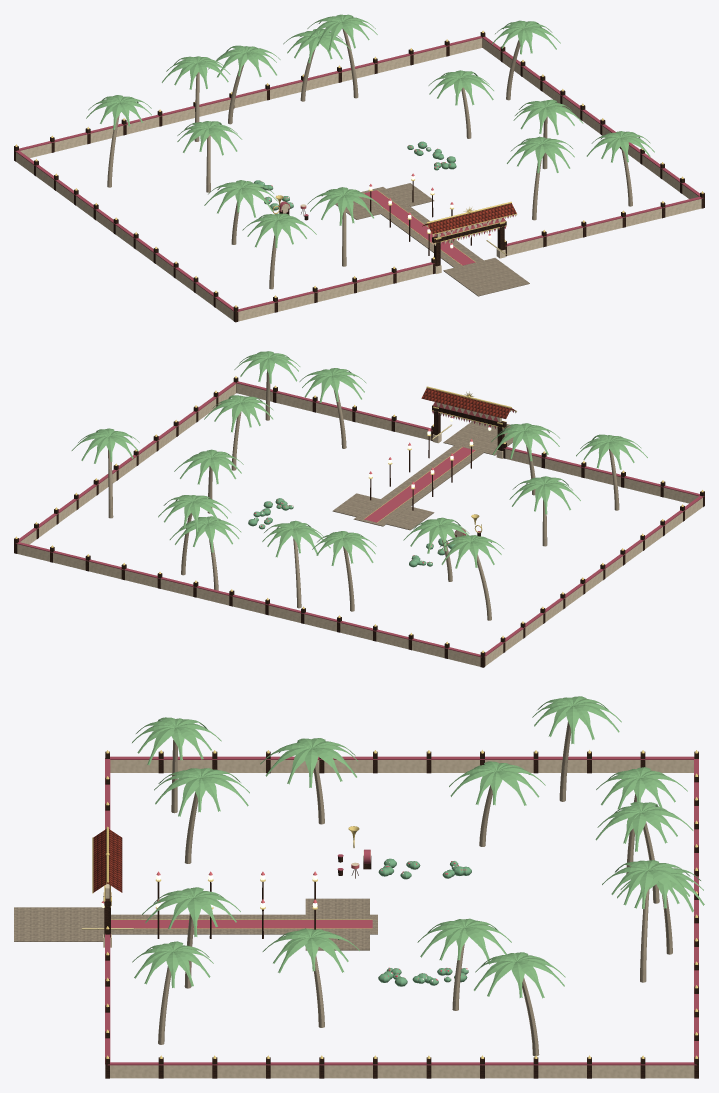
Rendered from compound.glb.
3 renders of one model, top to bottom at view 1: azimuth 30°, elevation 25°; view 2: azimuth 150°, elevation 25°; view 3: azimuth 270°, elevation 25°, orthographic. The views are drawn at different scales.
Visible parts, largest first — view 1: pagar, kelapa, halaman, palang_pintu; view 2: pagar, kelapa, halaman, palang_pintu, lampu; view 3: kelapa, pagar, halaman, palang_pintu, lampu.
Part boxes in pixels (x1=…): pagar: x1=14, y1=30, x2=704, y2=322; kelapa: x1=86, y1=14, x2=654, y2=289; halaman: x1=254, y1=141, x2=529, y2=296; palang_pintu: x1=422, y1=201, x2=516, y2=273; pagar: x1=14, y1=376, x2=704, y2=667; kelapa: x1=71, y1=351, x2=647, y2=620; halaman: x1=248, y1=421, x2=513, y2=567; palang_pintu: x1=421, y1=386, x2=516, y2=458; lampu: x1=368, y1=428, x2=473, y2=510; kelapa: x1=132, y1=696, x2=704, y2=1056; pagar: x1=105, y1=750, x2=698, y2=1078; halaman: x1=14, y1=858, x2=471, y2=986; palang_pintu: x1=81, y1=826, x2=134, y2=947; lampu: x1=155, y1=871, x2=317, y2=938.
Bounding box in the file's own units: 54.64 × 8.86 × 51.63.
15 materials, 4 textured.
